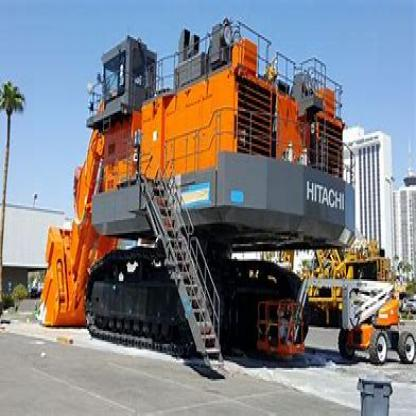excavator: (39, 13, 376, 401)
